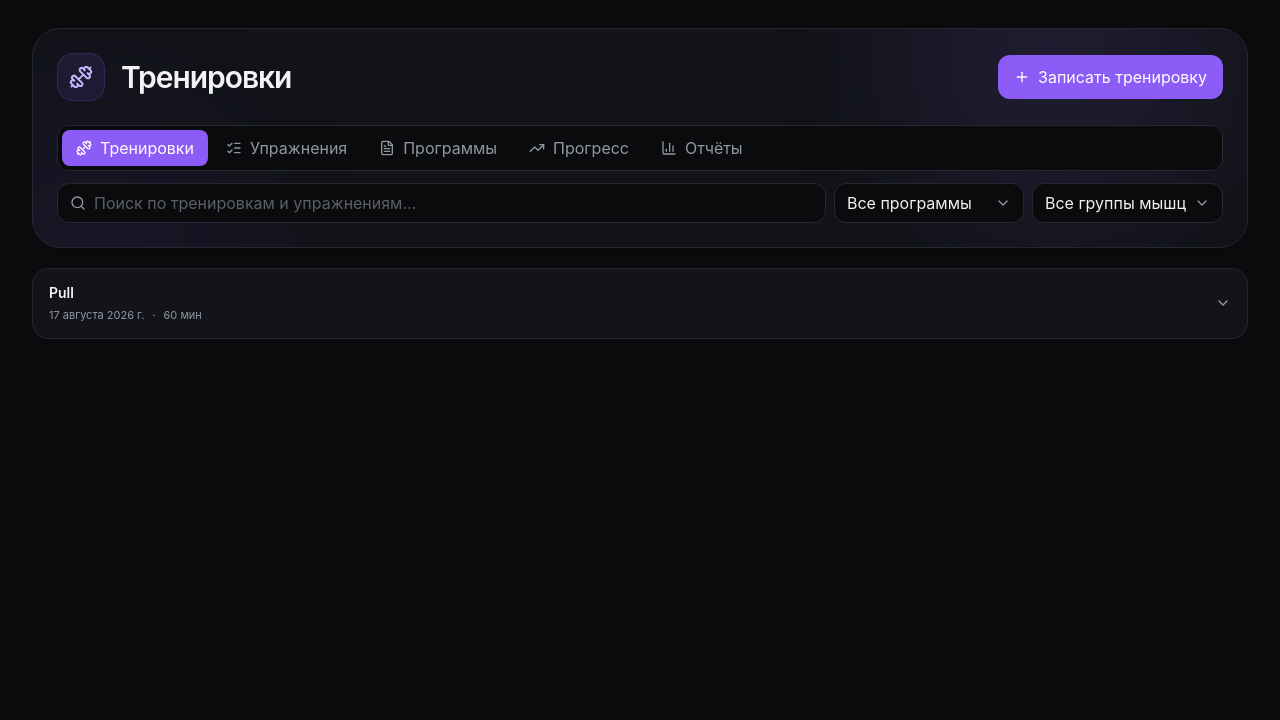
WorkoutsPage › keeps workout cards compact and reveals full details on click
The image size is (1280, 720).
Check: the heading "Тренировки" is shown, box [121,59,291,95]
Click the button with aria-label "Раскрыть тренировку «Pull»" at (97, 315), box [33,269,1247,338]
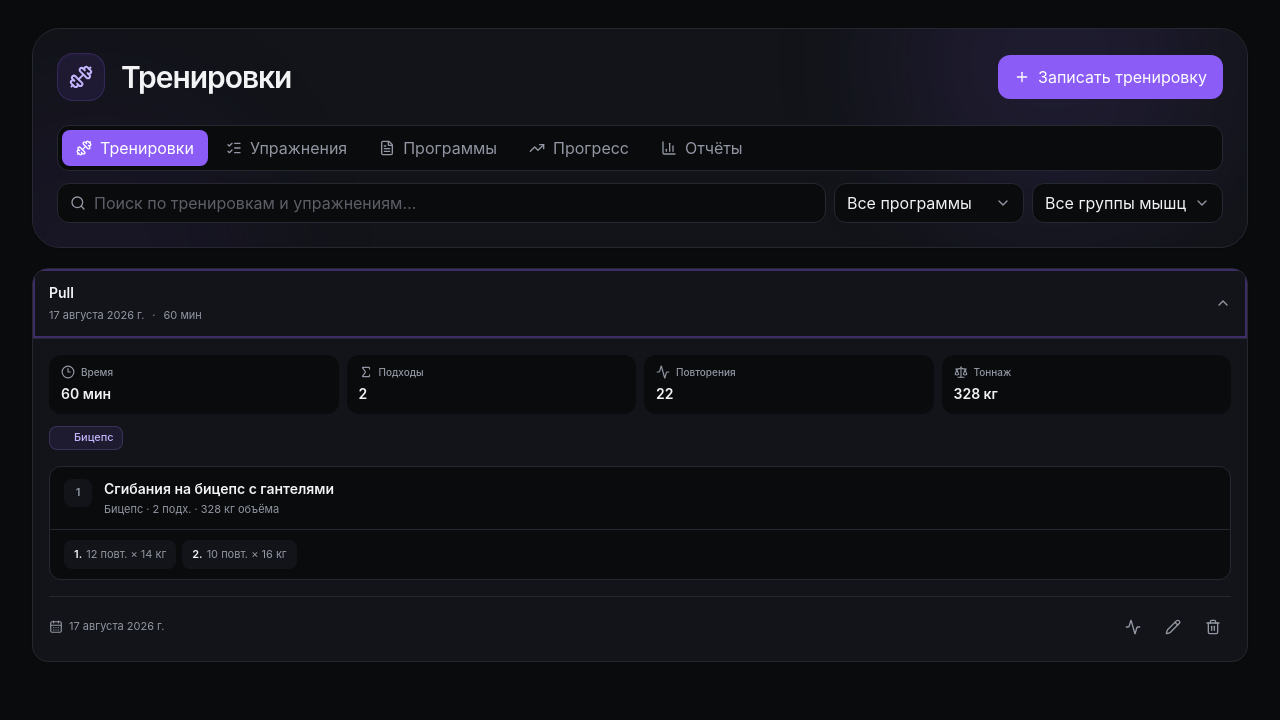
Check: the button with aria-label "Свернуть тренировку «Pull»" is expanded, box [33,269,1247,338]
Check: the text "2. 10 повт. × 16 кг" is shown, box [182,540,297,568]
Check: the button named "Изменить тренировку" is shown, box [1155,608,1191,644]
